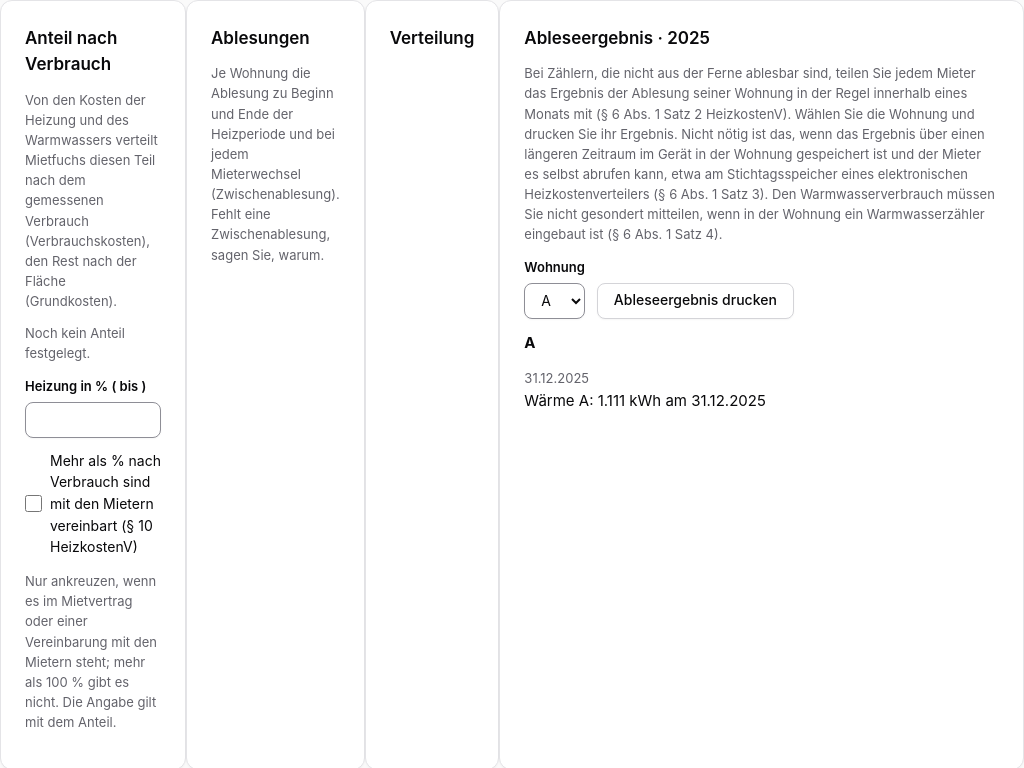
it: Ableseergebnis: gezeigt und gedruckt wird die gewählte Wohnung, nicht alle (Durchsicht von #239, I2)
Expected: the text "Wärme A: 1.111 kWh am 31.12.2025" is shown, x1=524 y1=391 x2=766 y2=410
Expected: the text "Wärme B: 2.222 kWh" is not shown
Select "B" in the dropdown labelled "Wohnung" at (555, 301), box x1=524 y1=283 x2=585 y2=319
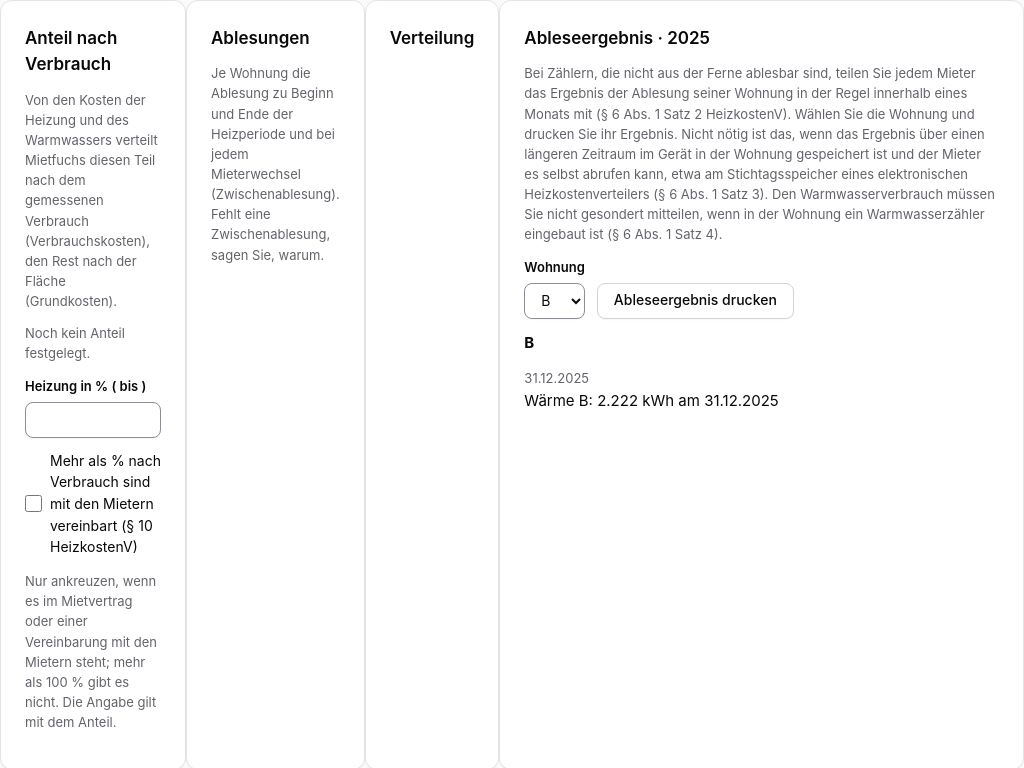
Expected: the text "Warmwasserzähler eingebaut ist (§ 6 Abs. 1 Satz 4)" is shown, x1=524 y1=65 x2=995 y2=242
Result: the text "Wärme A: 1.111 kWh" is gone
Result: the text "Wärme B: 2.222 kWh am 31.12.2025" is shown at x1=524 y1=391 x2=779 y2=410
